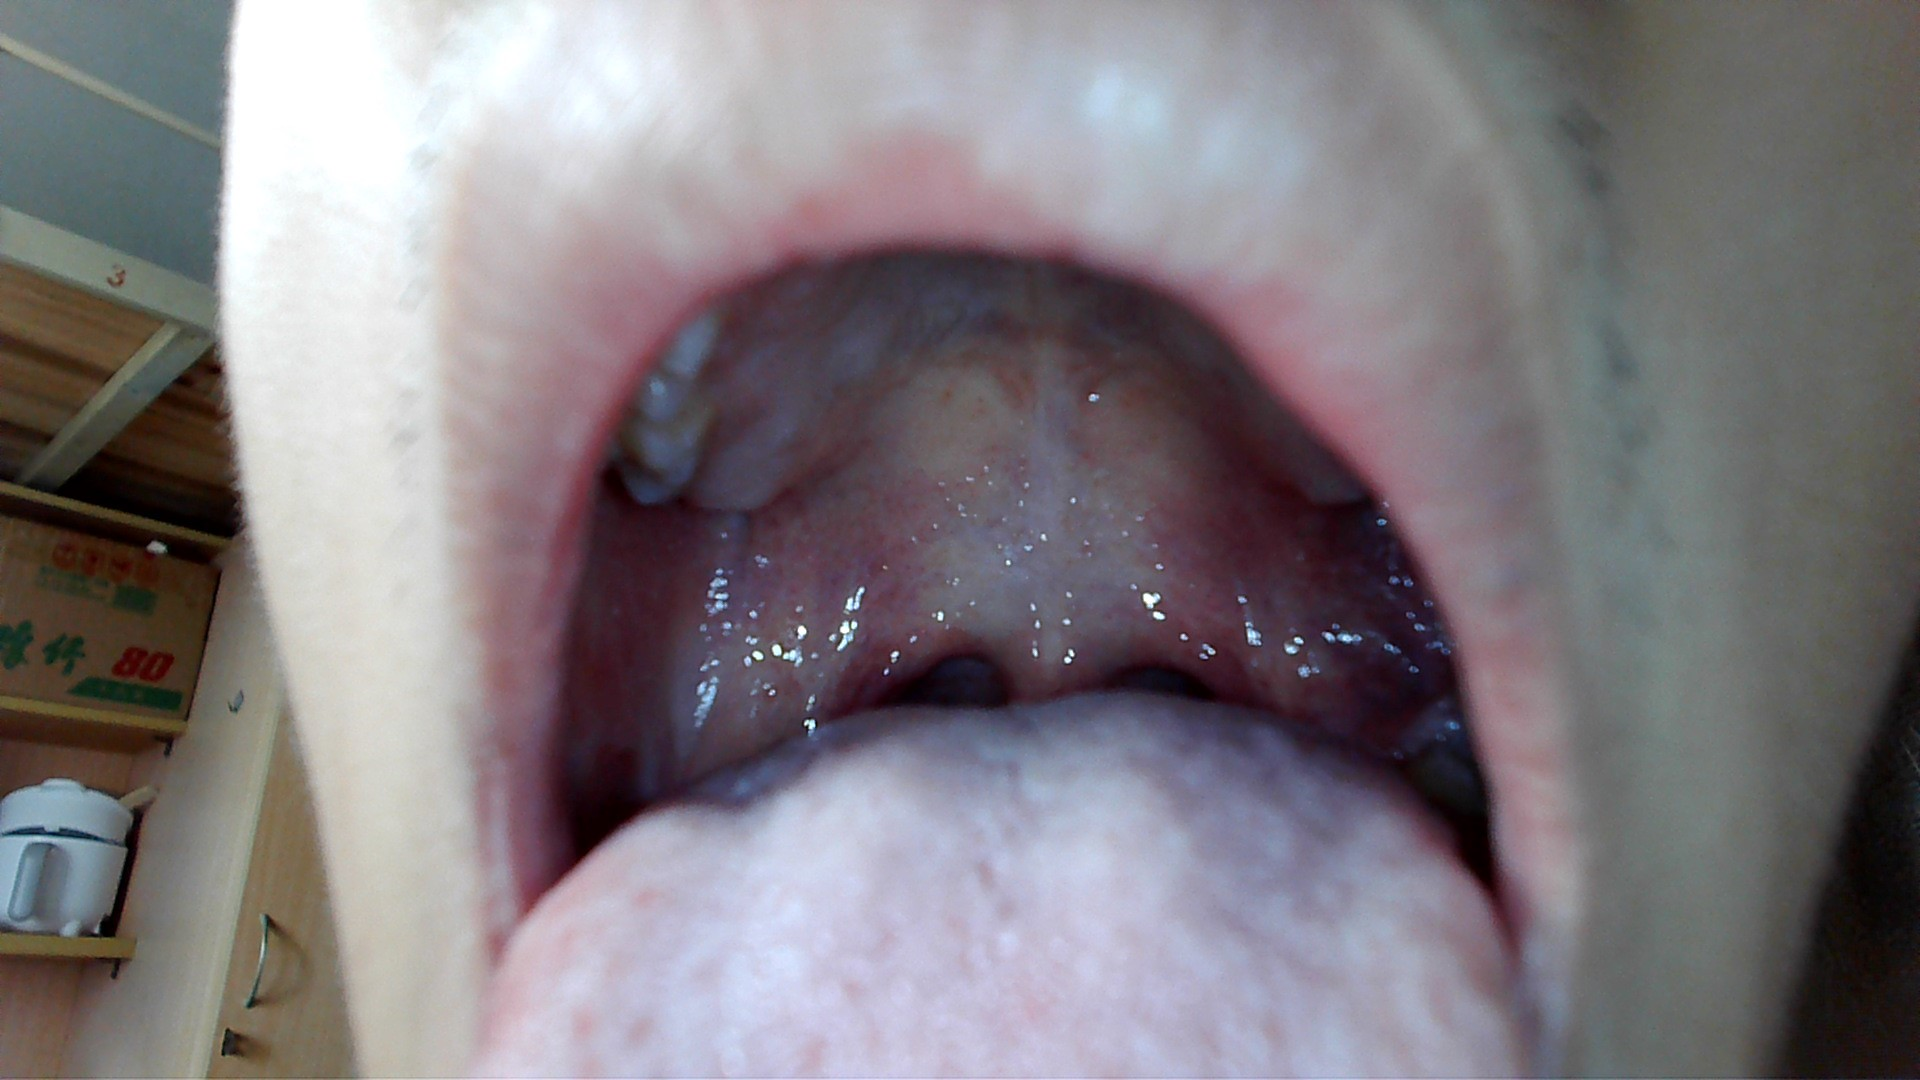throat: (851, 604, 978, 704)
